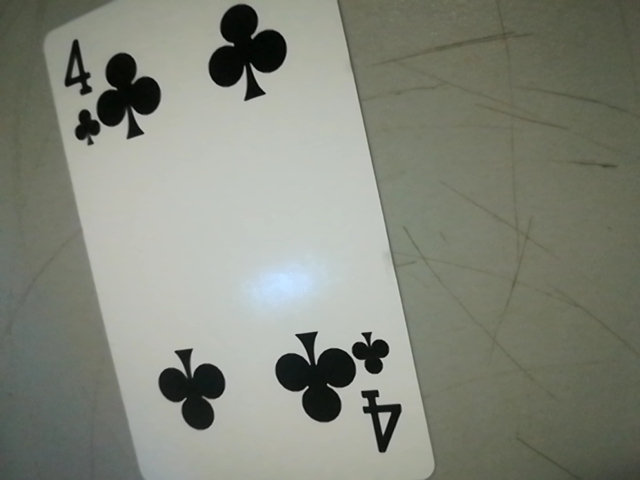mh 4: (349, 320, 416, 465), (53, 31, 101, 153)
